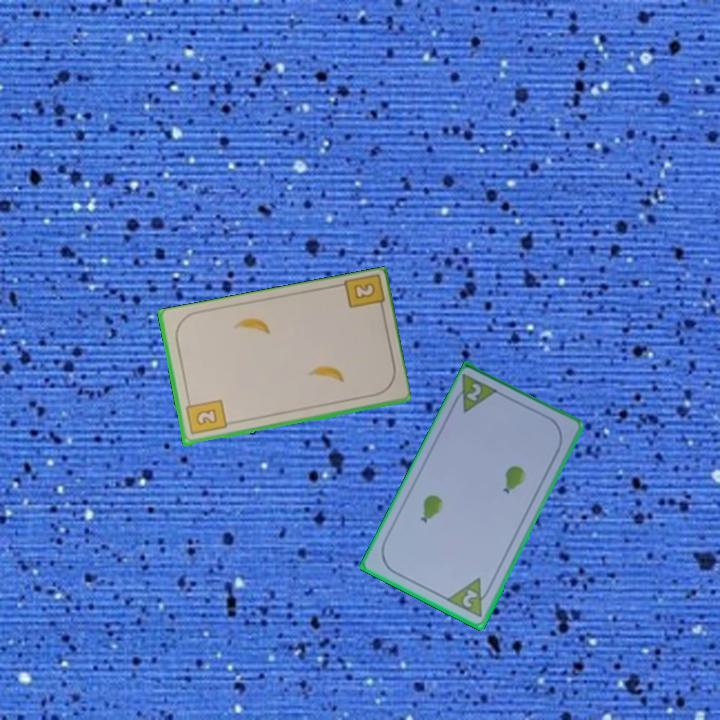2b: (339, 273, 387, 317), (182, 396, 229, 438)
2p: (443, 574, 495, 621), (462, 380, 485, 405)
